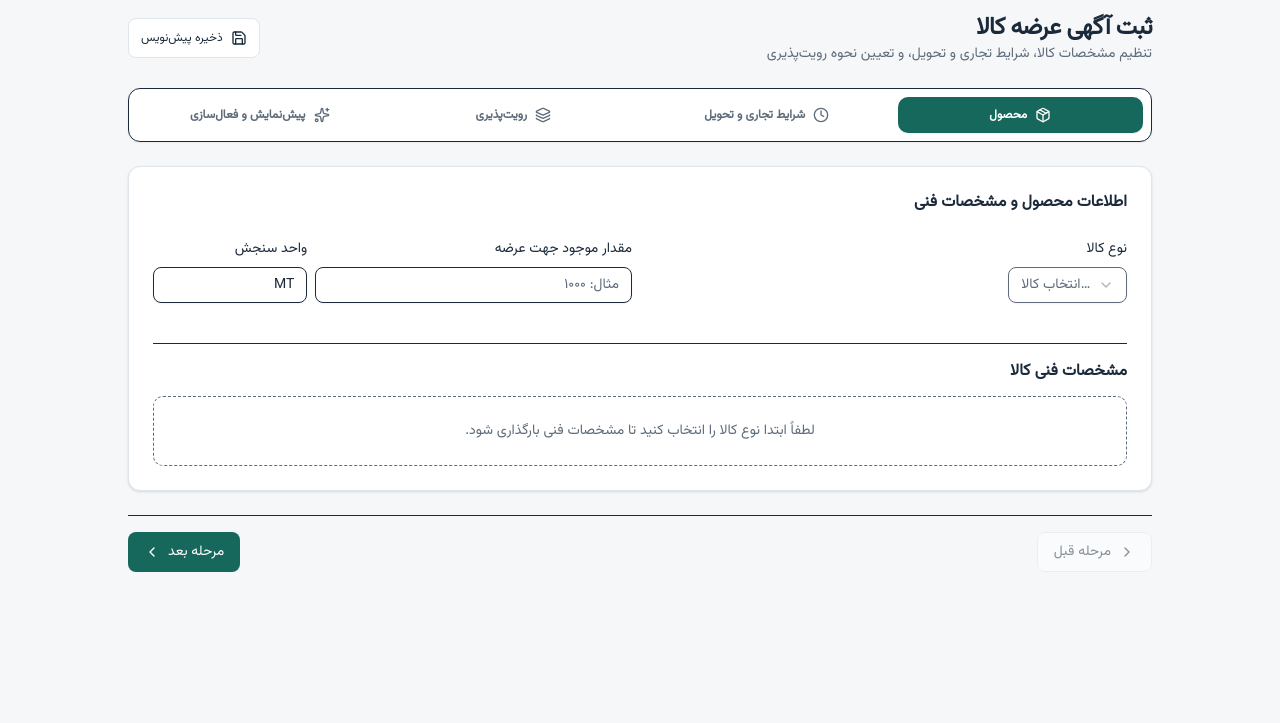
T0509 — Supply Listing UI Component Suite › 5. Draft creation: creates initial draft via POST and stores authoritative ID and version
This screenshot has width=1280, height=723.
Click the dropdown named "نوع کالا": click(1068, 285) [1008,267,1127,303]
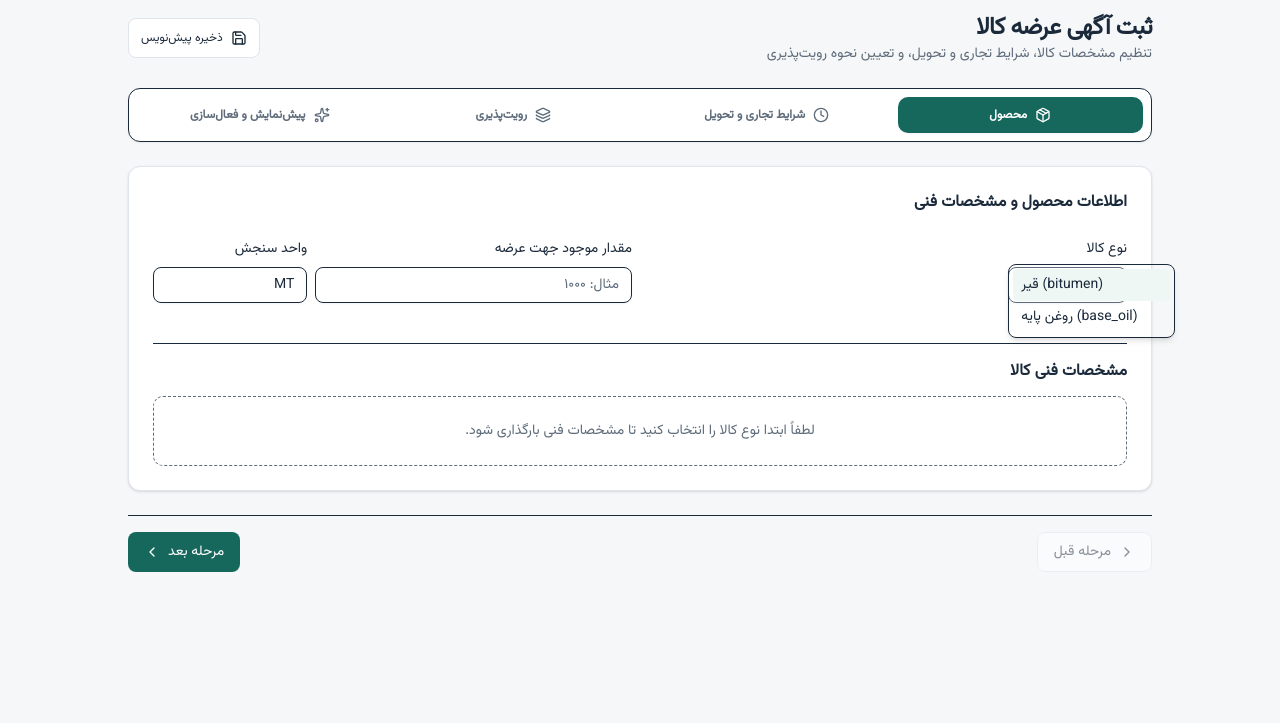
Click the option "قیر (bitumen)": click(1091, 285) [1013,269,1170,301]
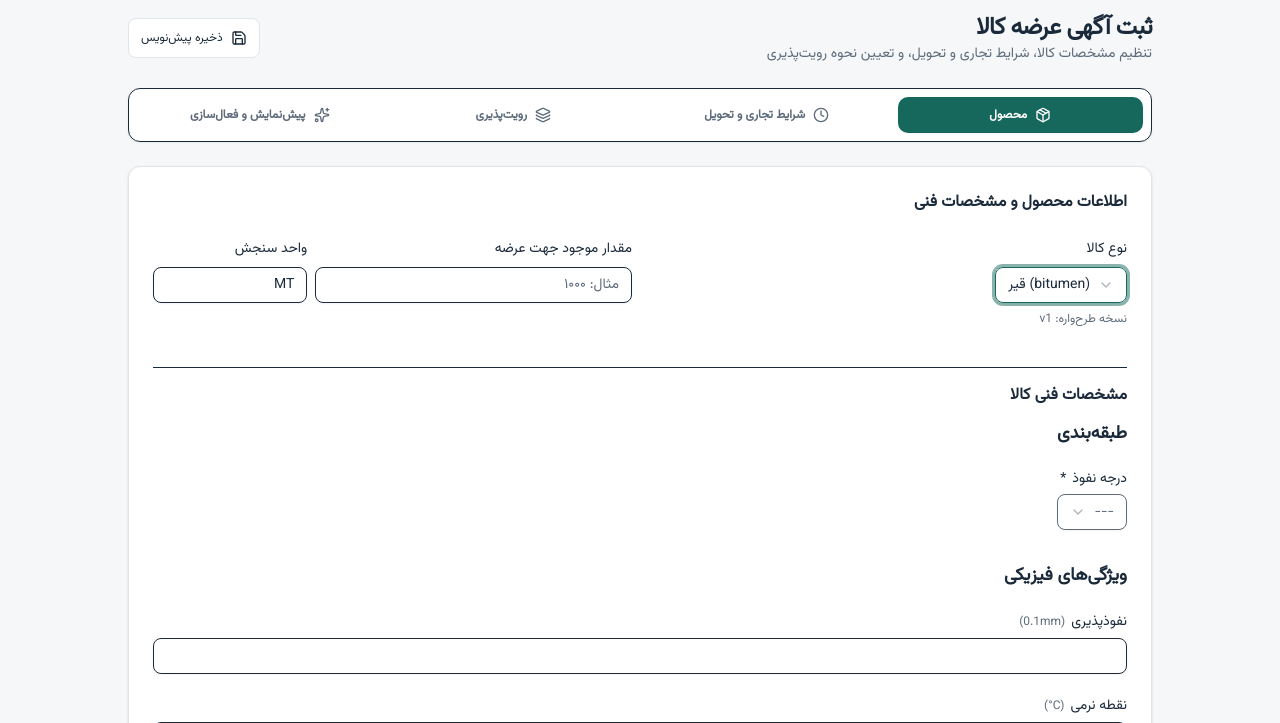
# Enter positive quantity
In the number field with placeholder "مثال: ۱۰۰۰": (474, 285) [315,267,632,303], type "2500"
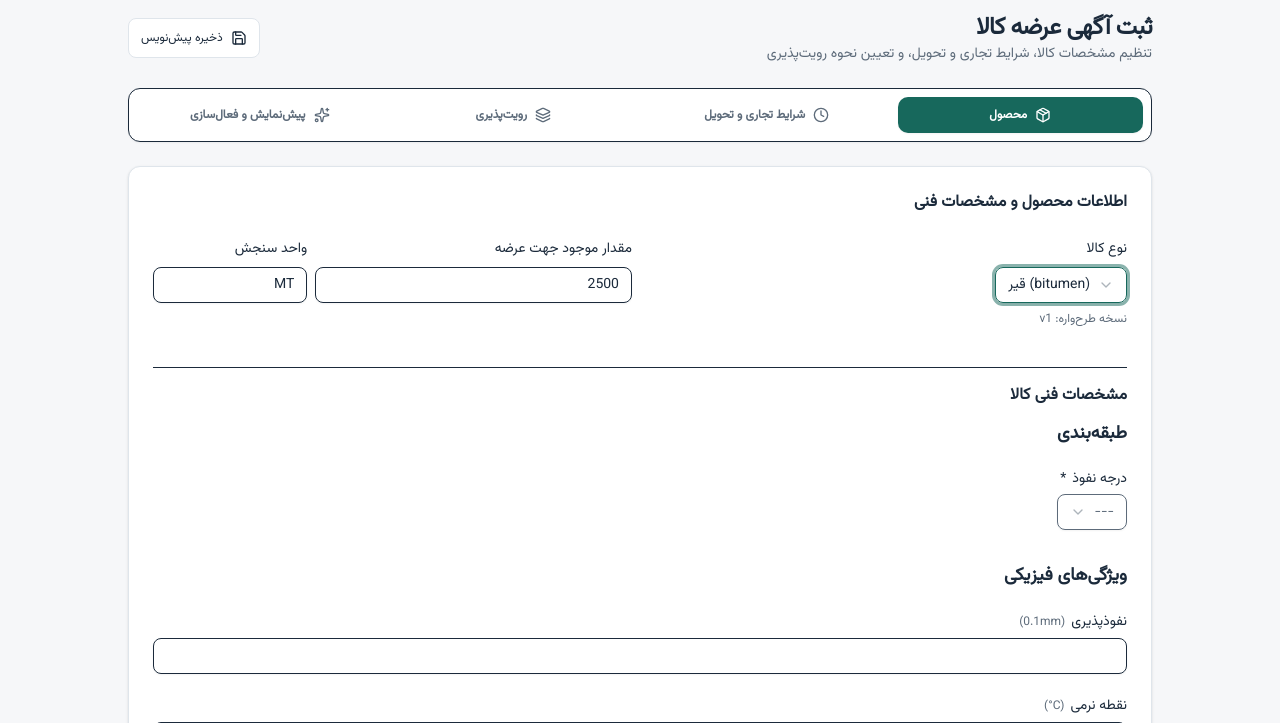
# Click Save Draft
Click the button "ذخیره پیش‌نویس": click(194, 38) [128,18,260,58]
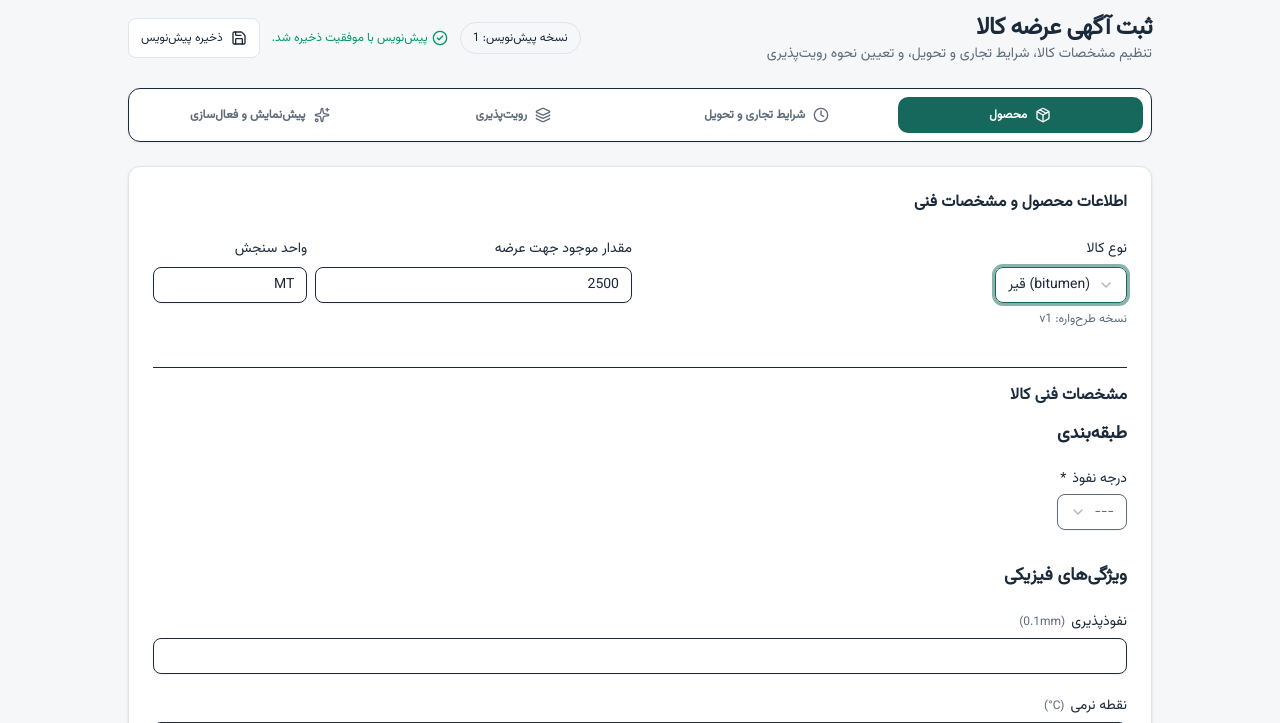
Result: the text "پیش‌نویس با موفقیت ذخیره شد." is shown at [272,30,448,46]
Result: the text "نسخه پیش‌نویس: 1" is shown at [460,22,581,54]
